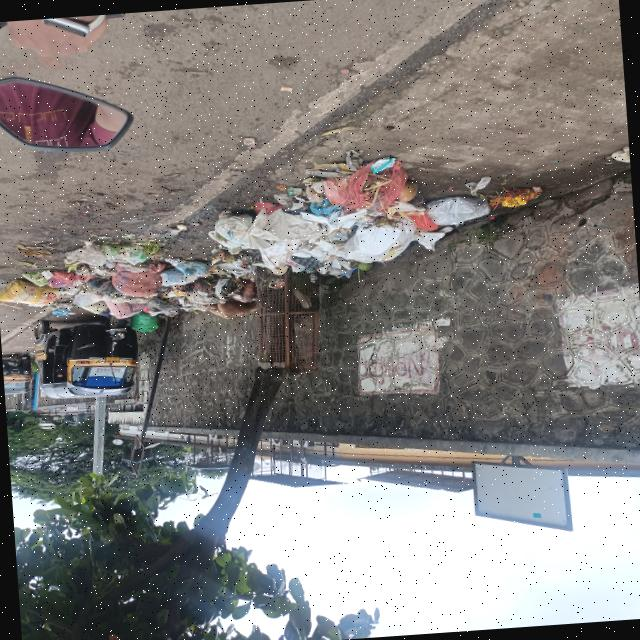garbage: (214, 156, 486, 281), (4, 234, 258, 336)
